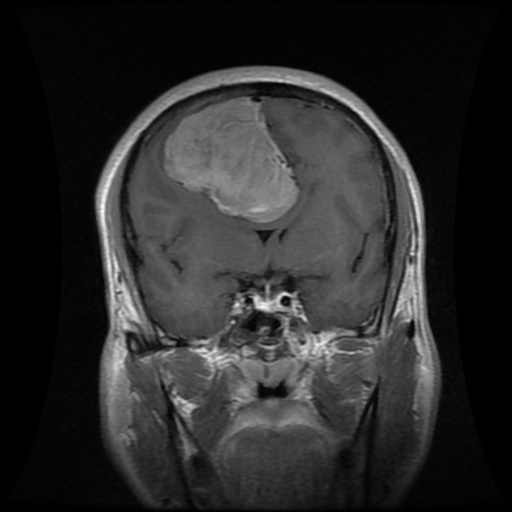meningioma: (163, 96, 299, 224)
